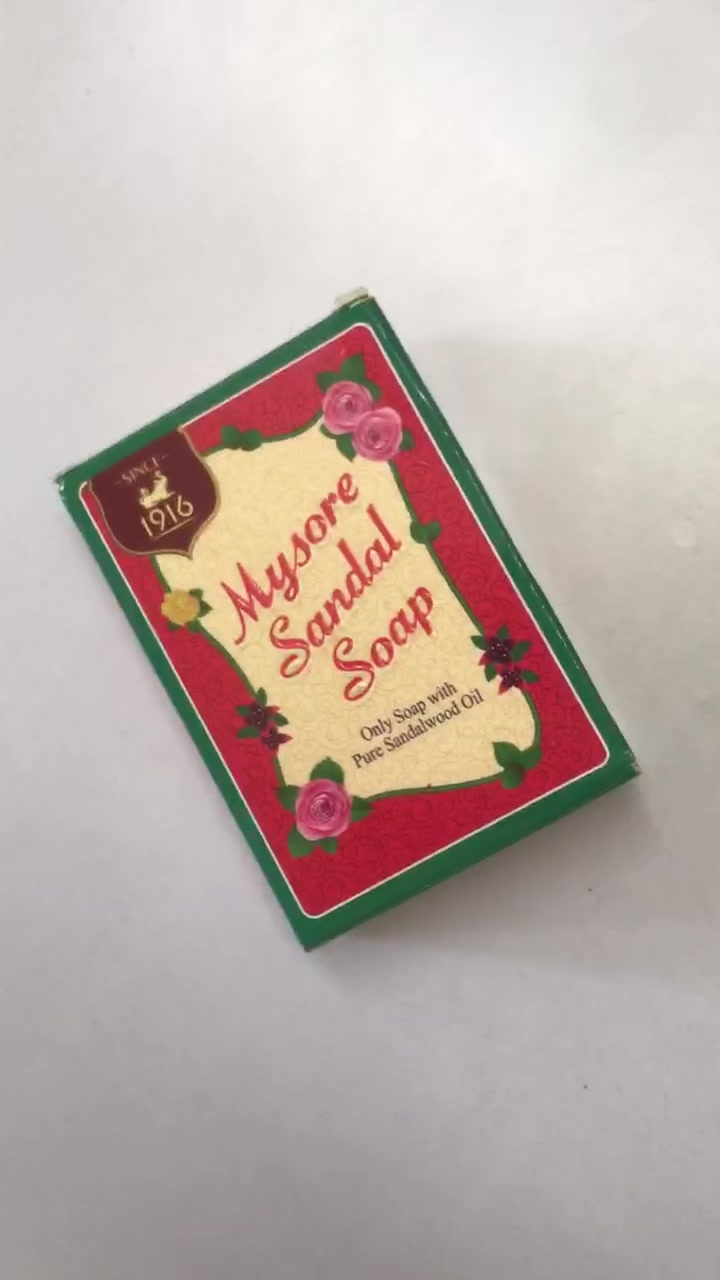mysore sandal soap: (59, 291, 638, 959)
